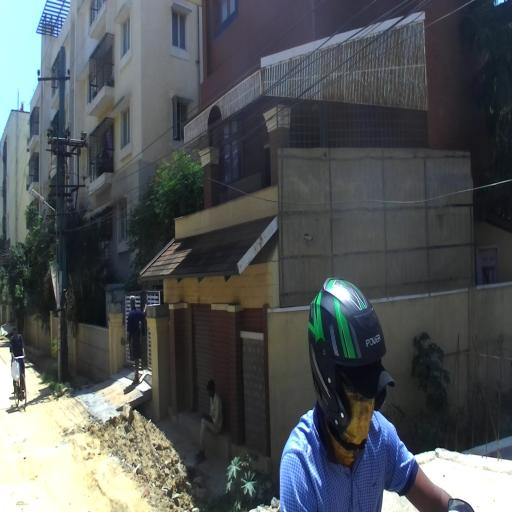street_light_0: (30, 189, 58, 212)
